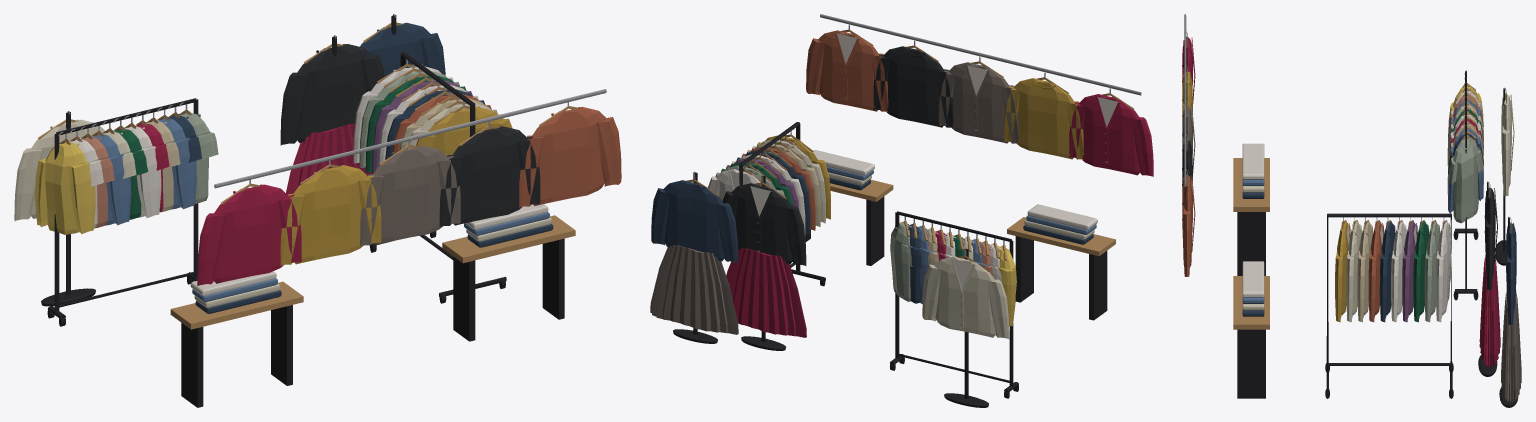
File: anytime.glb
3 renders of one model, left to right at view 1: azimuth 30°, elevation 25°; view 2: azimuth 150°, elevation 25°; view 3: azimuth 270°, elevation 25°, orthographic. The views are drawn at different scales.
Parts seen in each view (by area): view 1: apparel; view 2: apparel; view 3: apparel.
Boxes of the visible parts, <box> form: apparel: <box>14,14,621,407</box>; apparel: <box>650,14,1153,407</box>; apparel: <box>1182,14,1521,407</box>.
Size of the model in its own units: 3.66 by 2.05 by 2.79.
